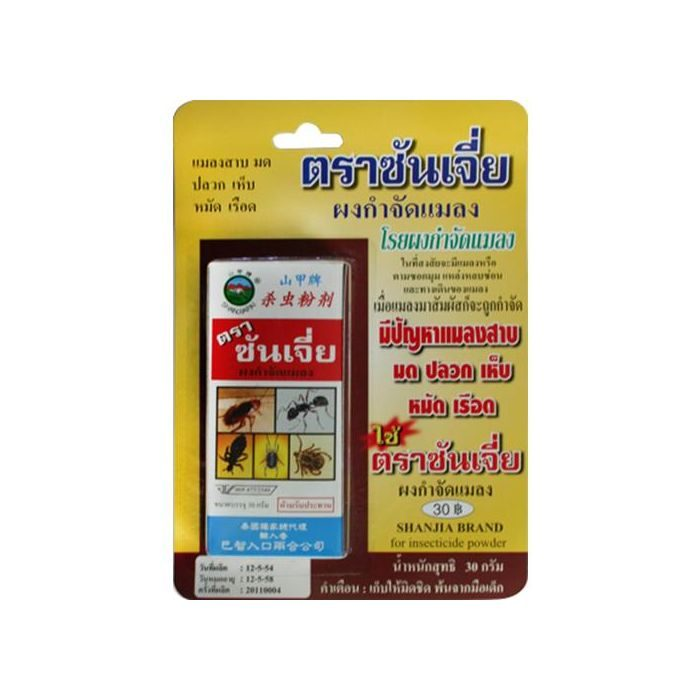Insecticide: (204, 252, 355, 566)
